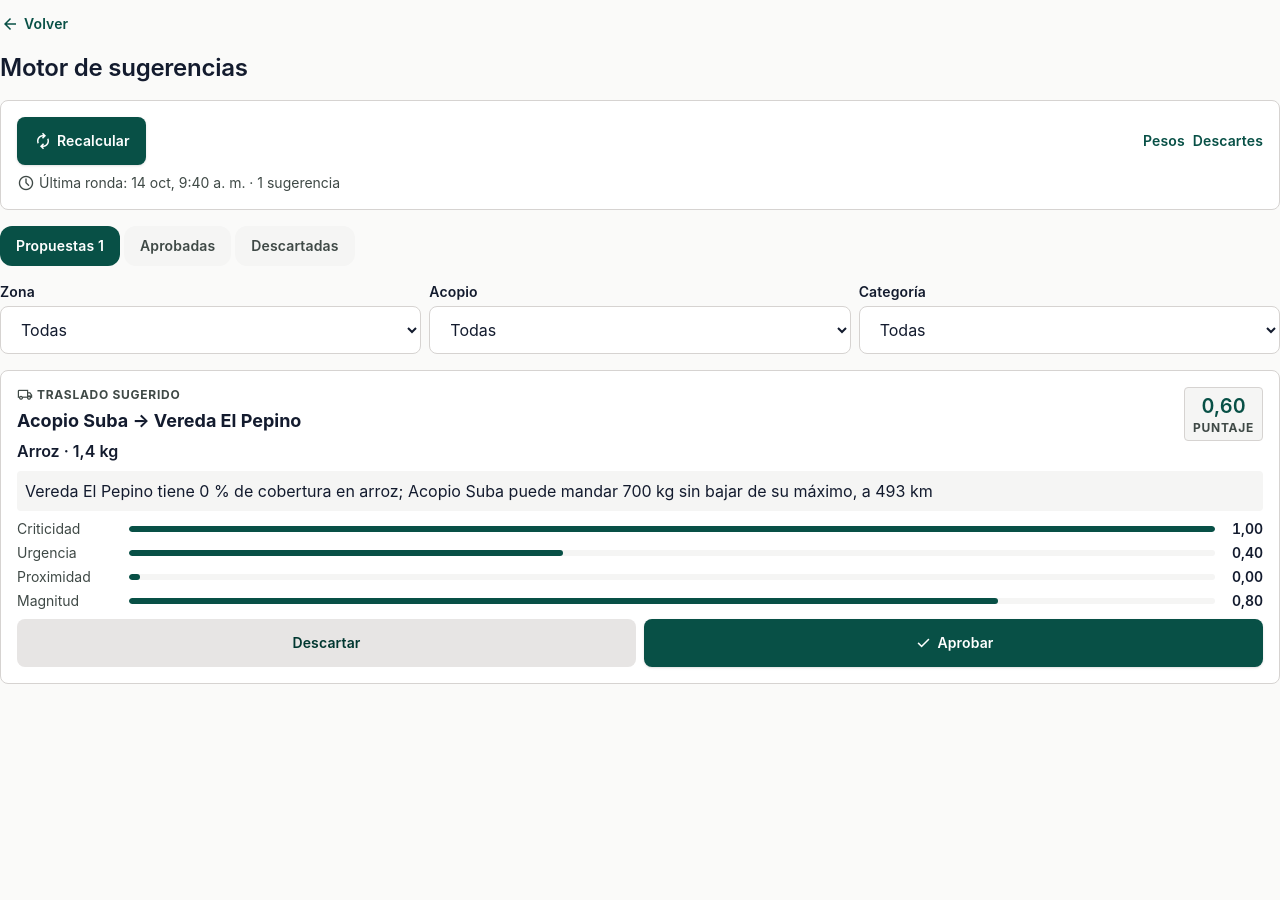
Test case: quitar uno a una cantidad con decimales no deja ruido de coma flotante
Expected: the text "Vereda El Pepino tiene 0 %" is shown, [25,481,933,501]
Click the button "Aprobar".
click(954, 643)  # box [644,619,1263,667]
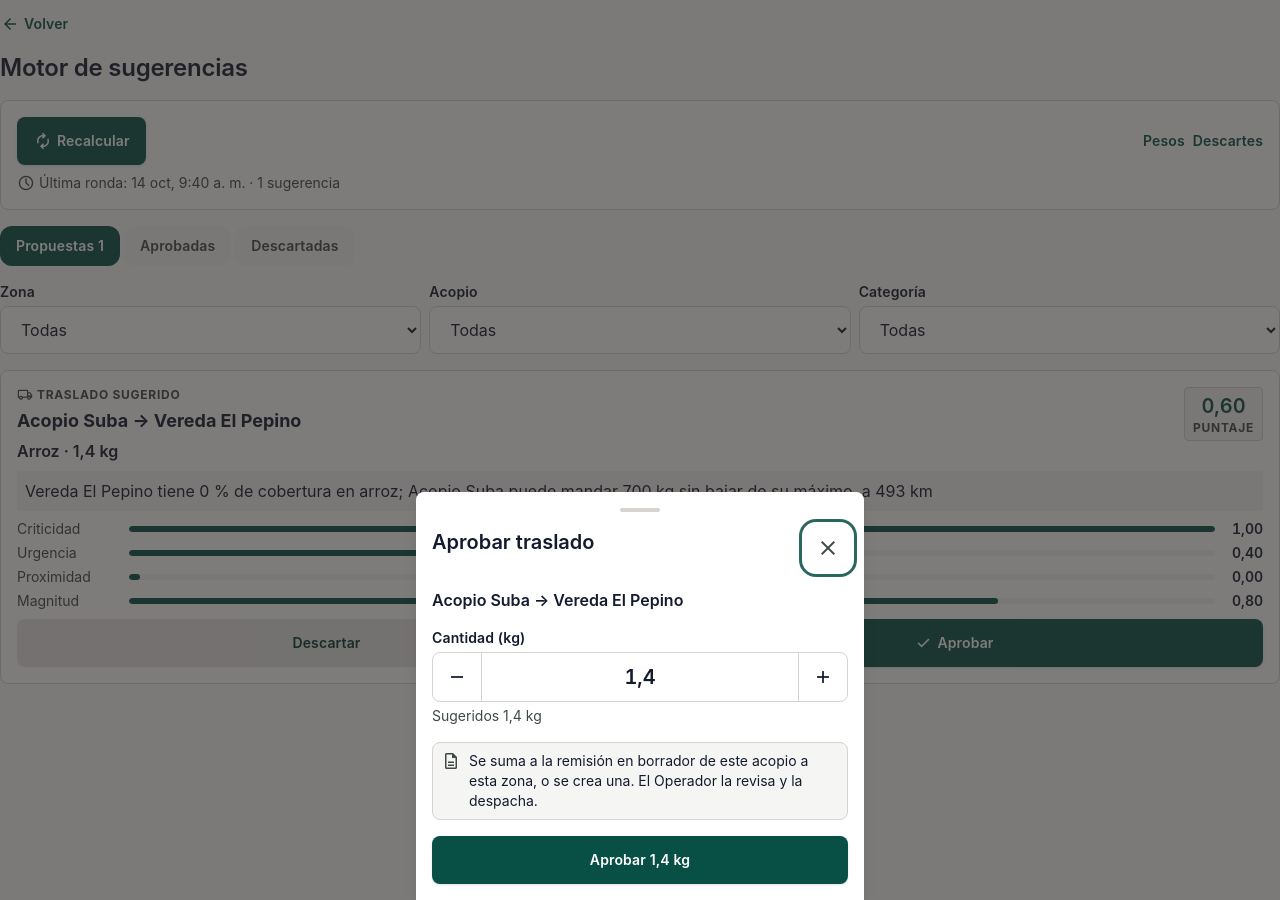
Click the button named "Quitar uno".
click(457, 677)  # box [433,653,481,701]
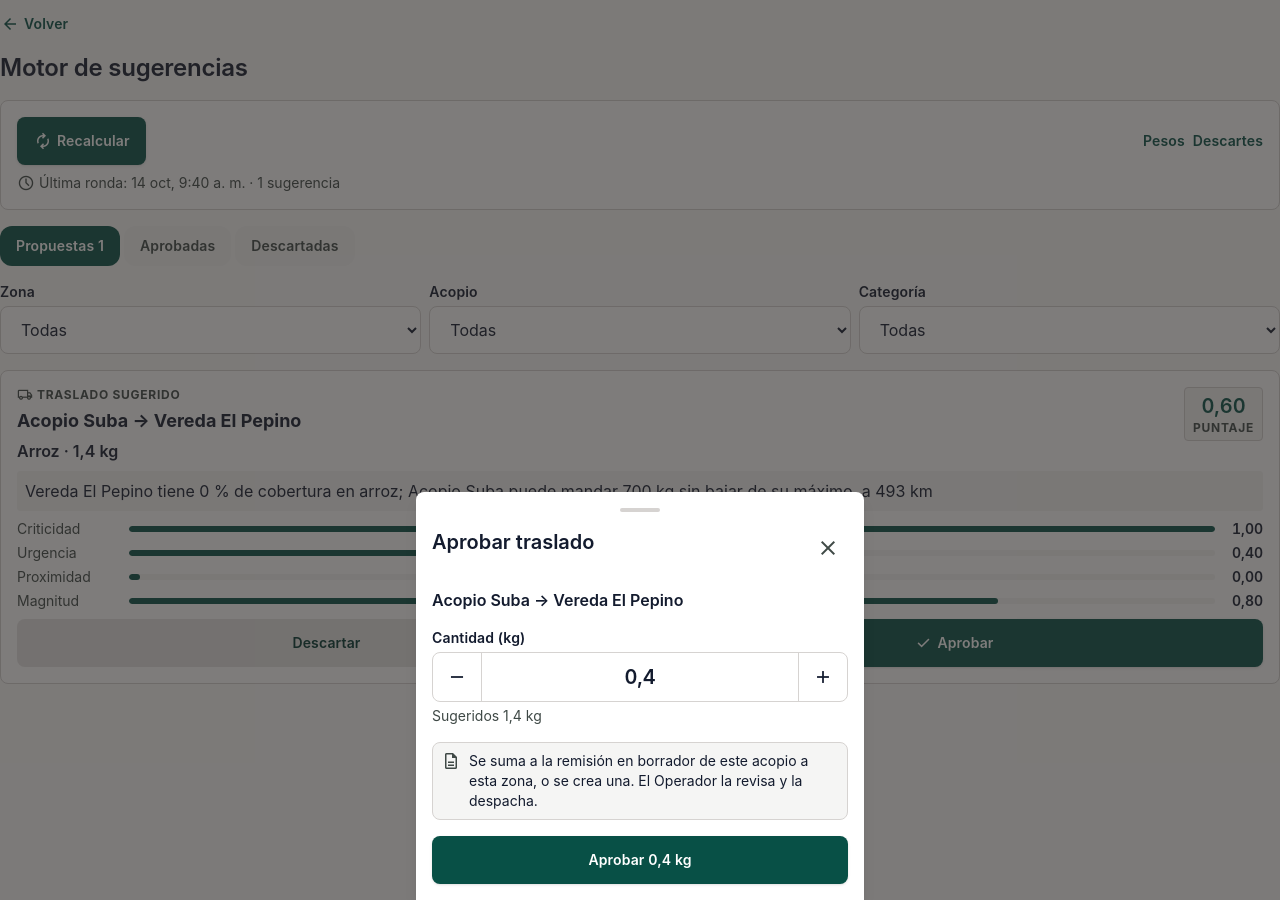
Expected: the field labelled "Cantidad (kg)" holds "0,4", [481,653,799,701]
